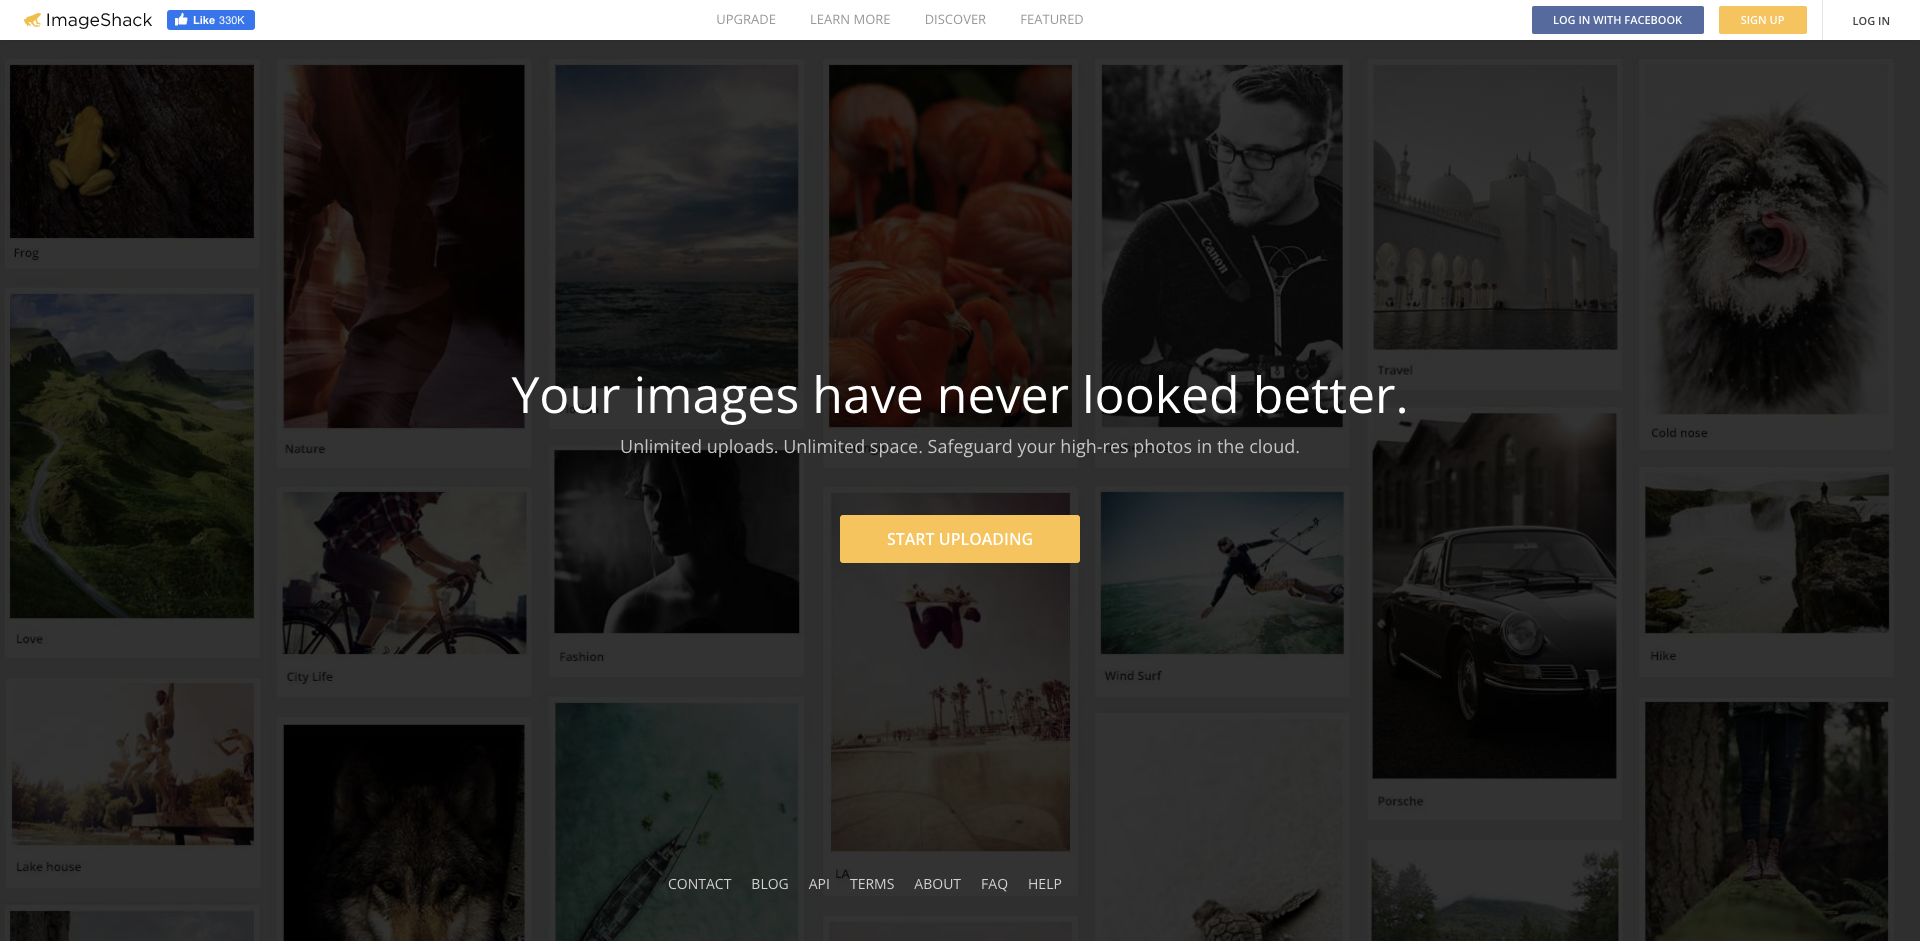button: (840, 516, 1080, 564), (1532, 6, 1703, 34), (1718, 6, 1806, 34)
link: (1822, 0, 1920, 40), (811, 0, 890, 39), (1020, 0, 1084, 39), (924, 0, 986, 39), (716, 0, 776, 39), (24, 13, 152, 29), (669, 874, 731, 893), (915, 874, 961, 893), (850, 874, 894, 893), (752, 874, 789, 893), (1029, 874, 1062, 893), (981, 874, 1008, 893), (808, 874, 830, 893)
